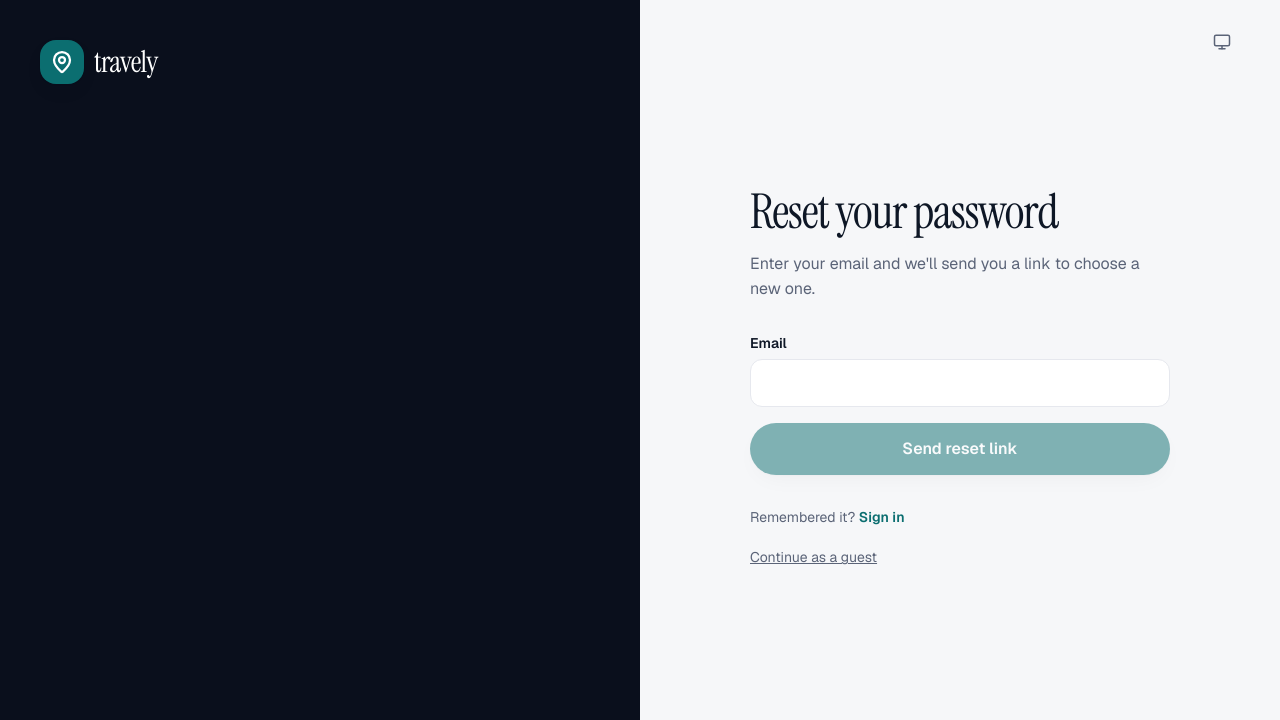
Test: AuthPage › sends a reset link without saying whether the account exists
(page scrolled)
In the field labelled "Email": (960, 383) [750, 359, 1170, 407], type "ada@example.com"
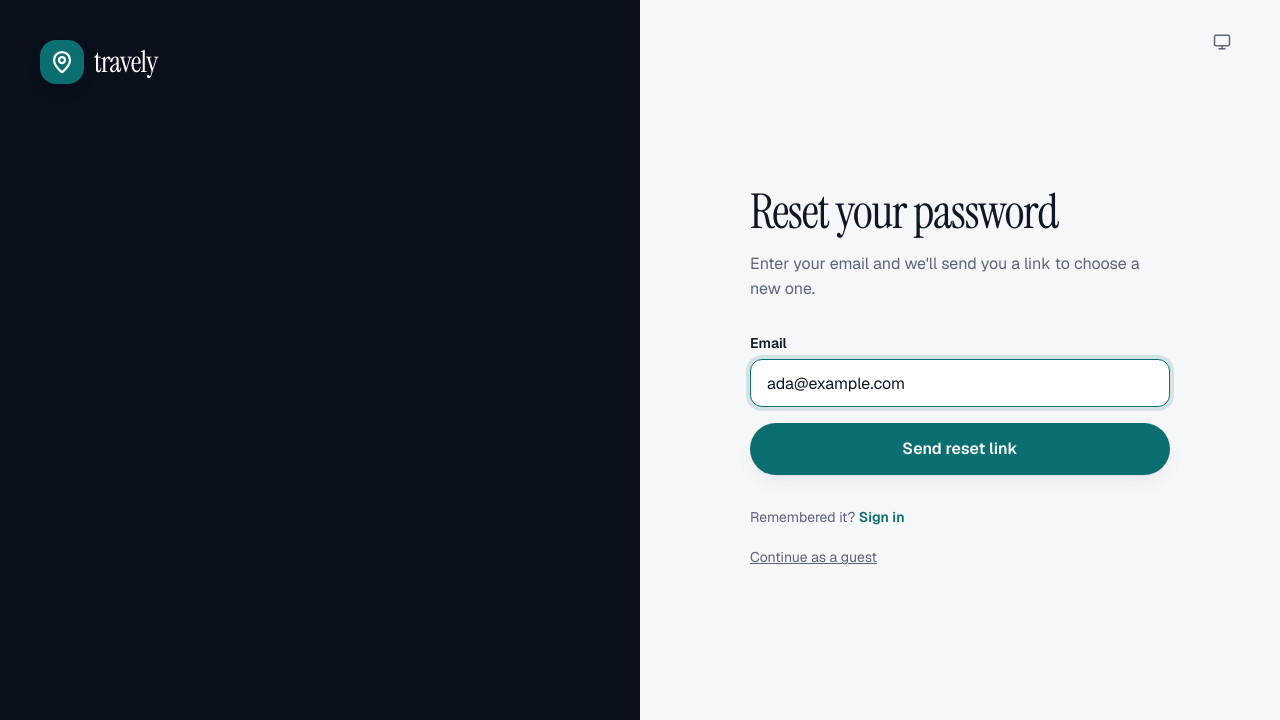
Click the button "Send reset link": click(960, 449) [750, 423, 1170, 475]
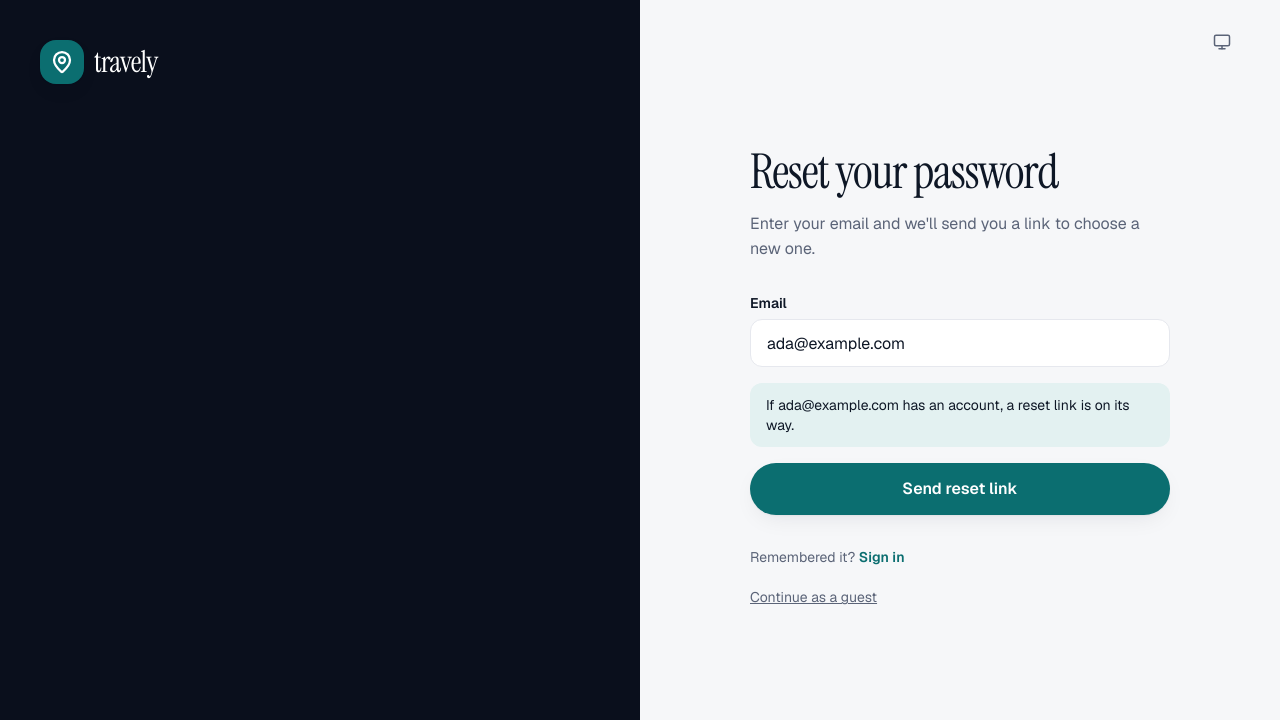
Expected: the message shows "If ada@example.com has an account", [766, 396, 1130, 434]
